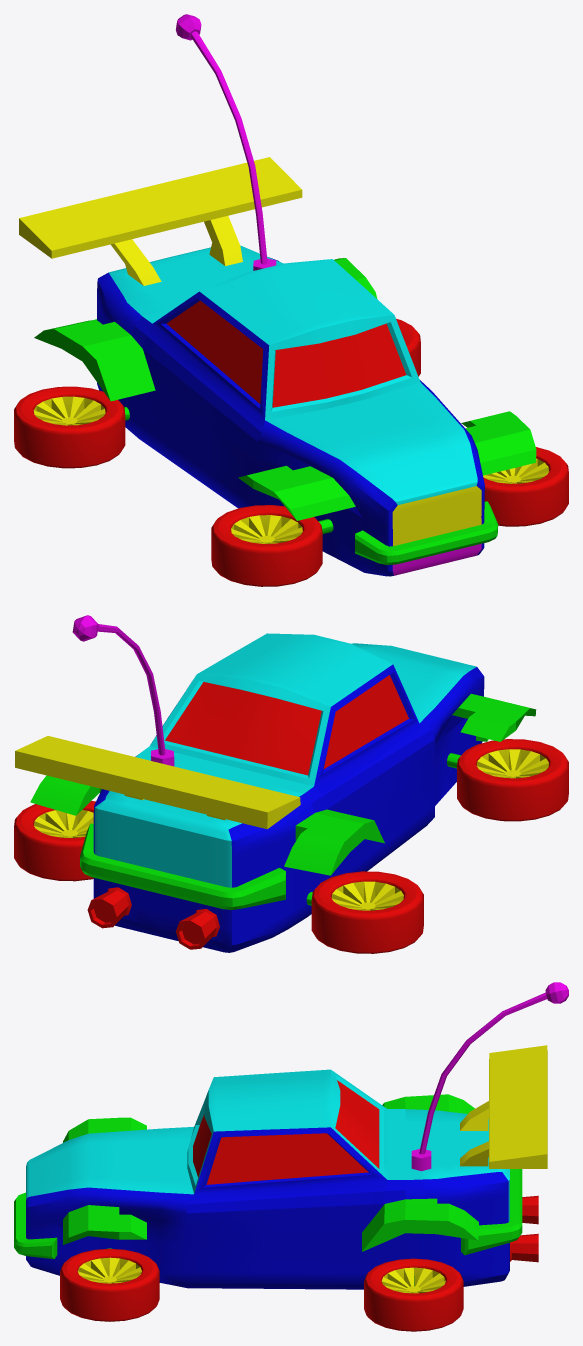
Rendered from CarV6Textured.fbx.
The picture shows the model from 3 angles, top to bottom: view 1: azimuth 30°, elevation 25°; view 2: azimuth 150°, elevation 25°; view 3: azimuth 270°, elevation 25°; orthographic projection. The views are drawn at different scales.
Visible parts, largest first — view 1: CarBody, RearRightWheel, FrontRightWheel, FrontLeftWheel; view 2: CarBody, RearRightWheel, FrontRightWheel, RearLeftWheel; view 3: CarBody, RearLeftWheel, FrontLeftWheel.
Boxes of the visible parts, x1=… form: CarBody: x1=19, y1=14, x2=536, y2=576; RearRightWheel: x1=14, y1=386, x2=125, y2=468; FrontRightWheel: x1=211, y1=505, x2=322, y2=586; FrontLeftWheel: x1=483, y1=447, x2=568, y2=526; CarBody: x1=15, y1=615, x2=536, y2=952; RearRightWheel: x1=311, y1=871, x2=423, y2=953; FrontRightWheel: x1=457, y1=739, x2=568, y2=821; RearLeftWheel: x1=14, y1=801, x2=95, y2=881; CarBody: x1=14, y1=982, x2=568, y2=1289; RearLeftWheel: x1=364, y1=1258, x2=463, y2=1331; FrontLeftWheel: x1=60, y1=1248, x2=159, y2=1321.
Size of the model in its own units: 3.32 by 2.69 by 4.57.
